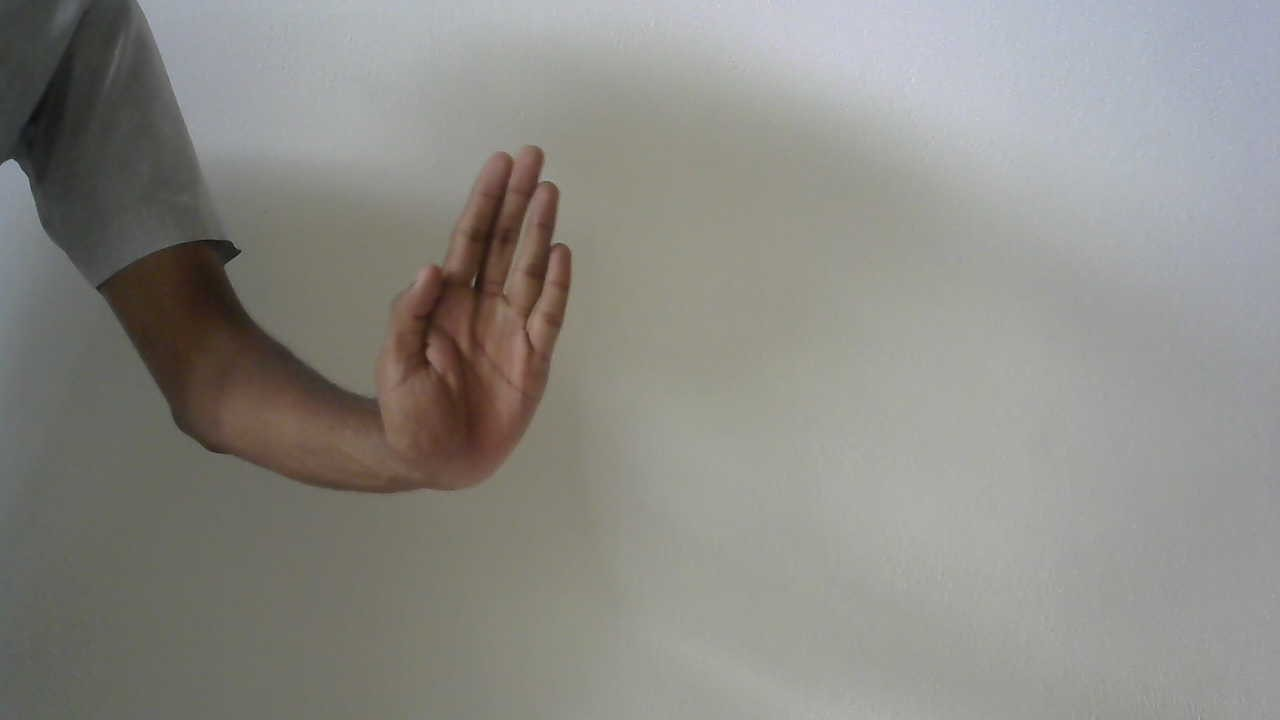hello: (366, 138, 576, 502)
